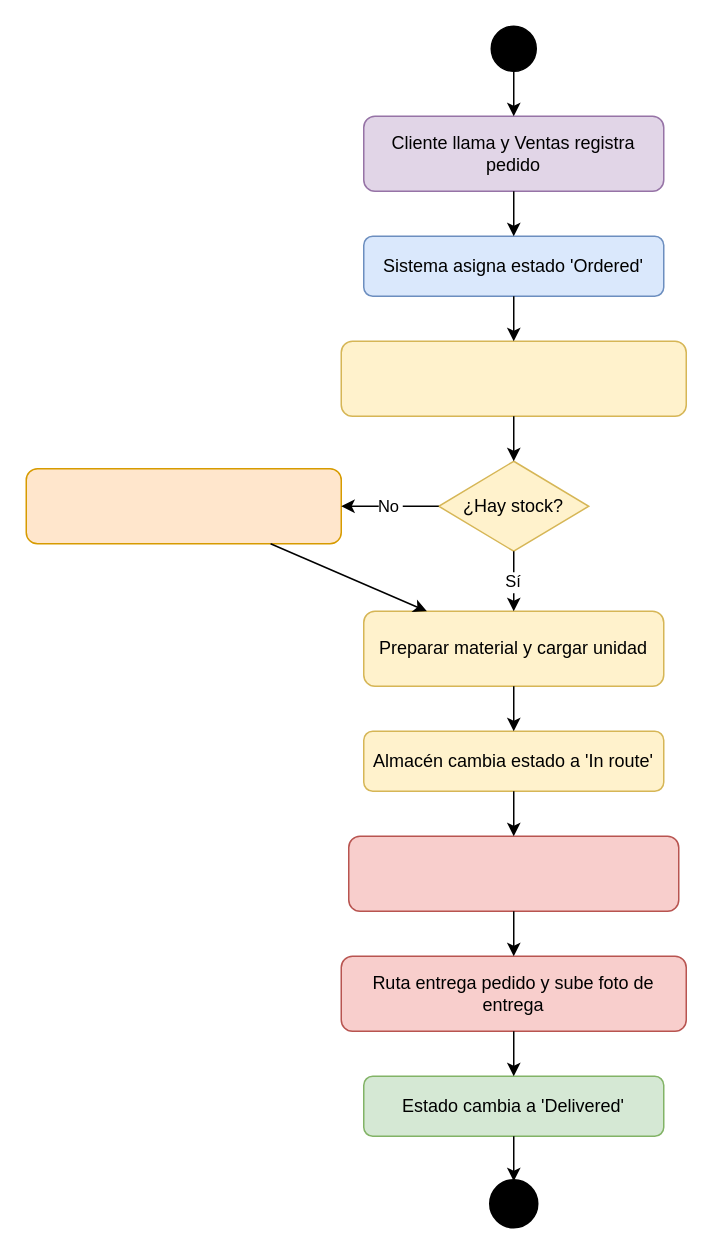
The diagram is 713 pixels wide and 1254 high, and some of its shapes have lost their labels. Each missing label, with the centre of its shape:
Almacén toma pedido y cambia estado a 'In process': point 513,378
Notificar a Compras y adquirir material externo: point 183,505
Ruta toma y sube foto de unidad cargada: point 513,873
